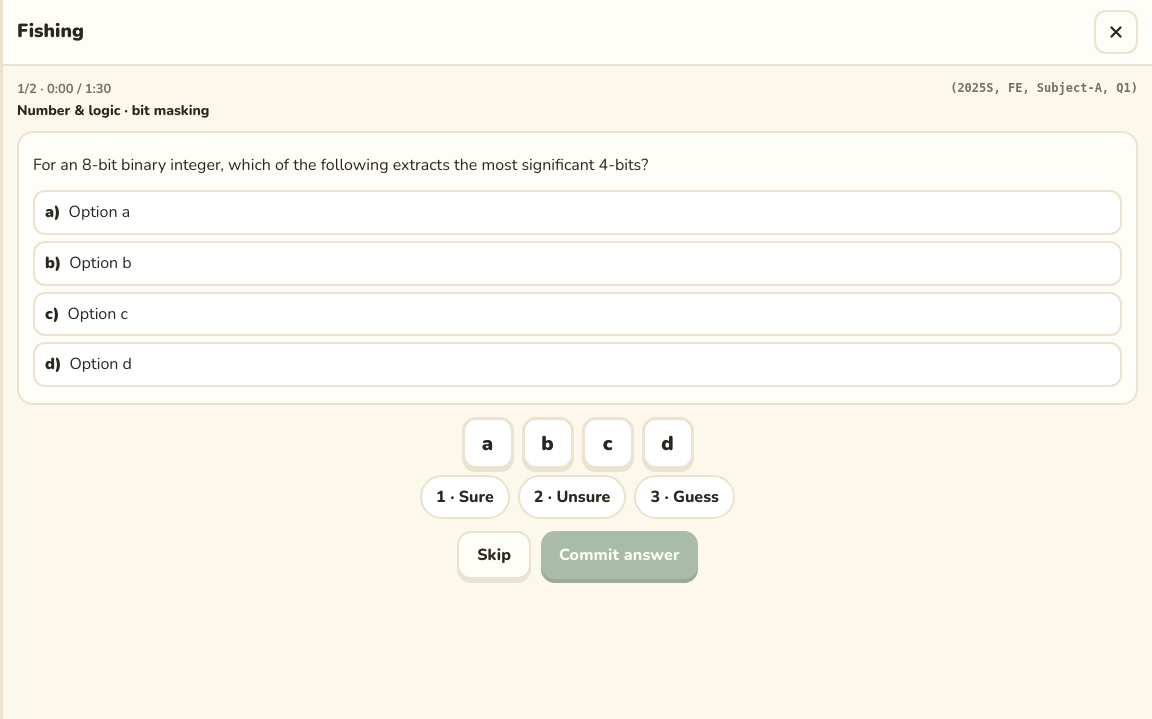
session › runs questions to a summary with farm events
The image size is (1152, 719).
Click the button "c" at (608, 443), box 582,417 -> 634,469
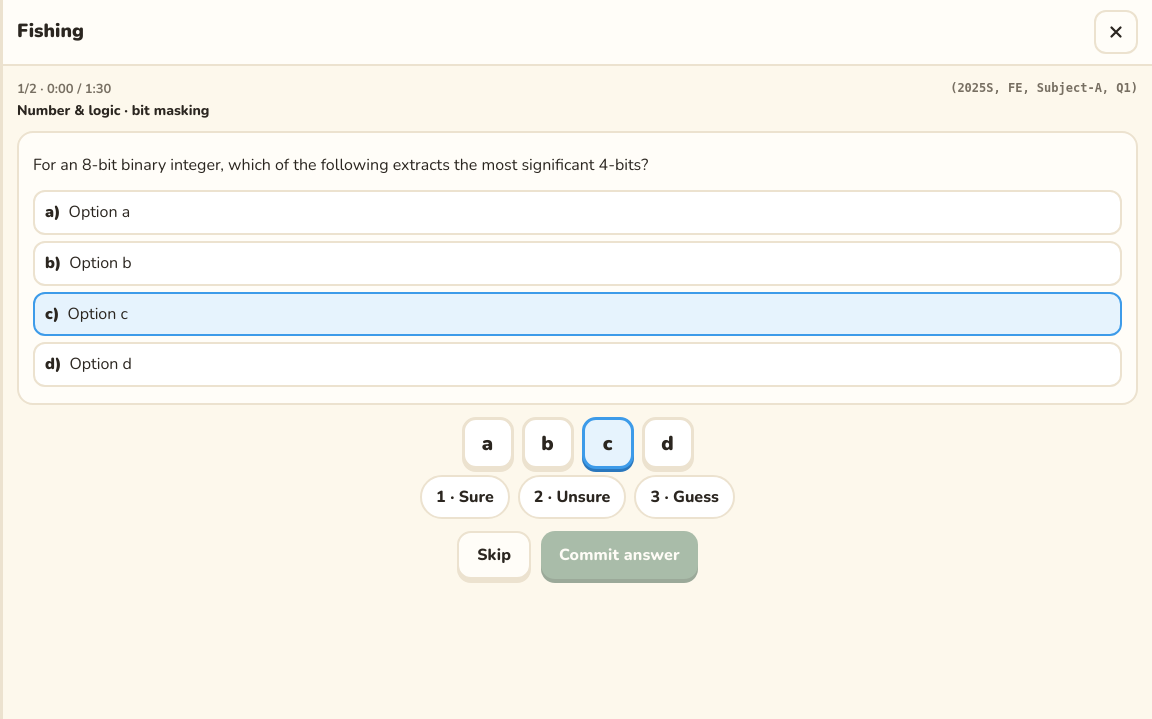
Click the button "2 · Unsure" at (572, 497), box 518,475 -> 626,519
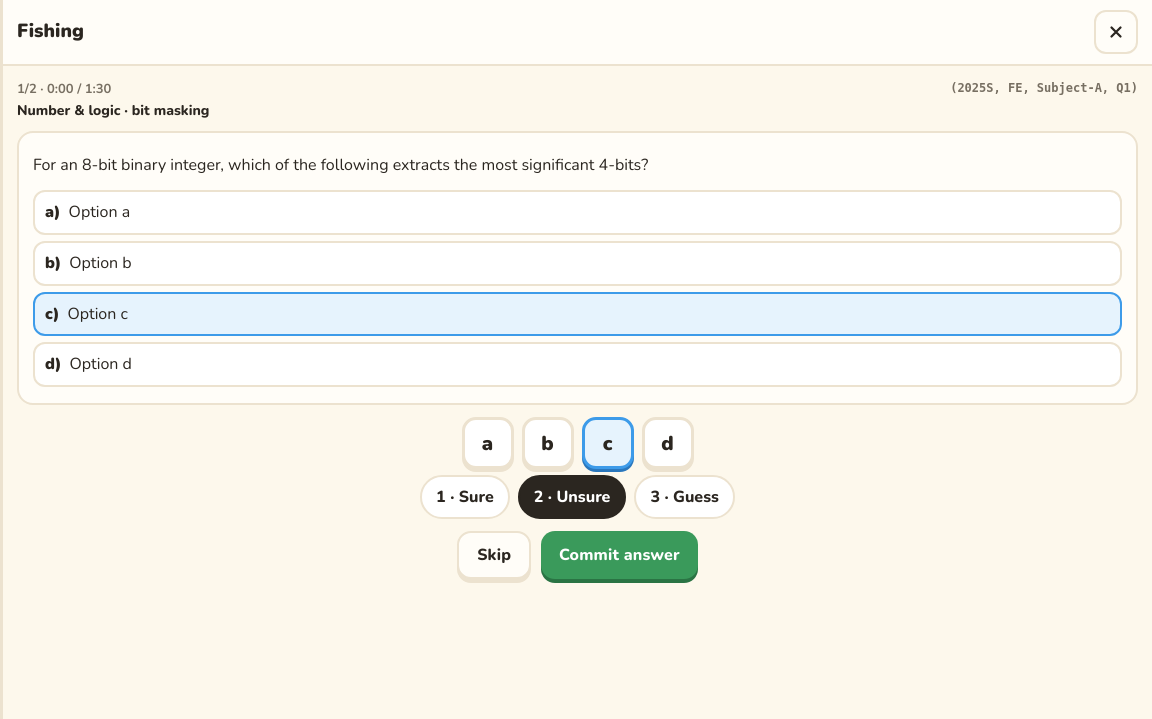
Click the button "Commit answer" at (619, 555), box 541,531 -> 698,579
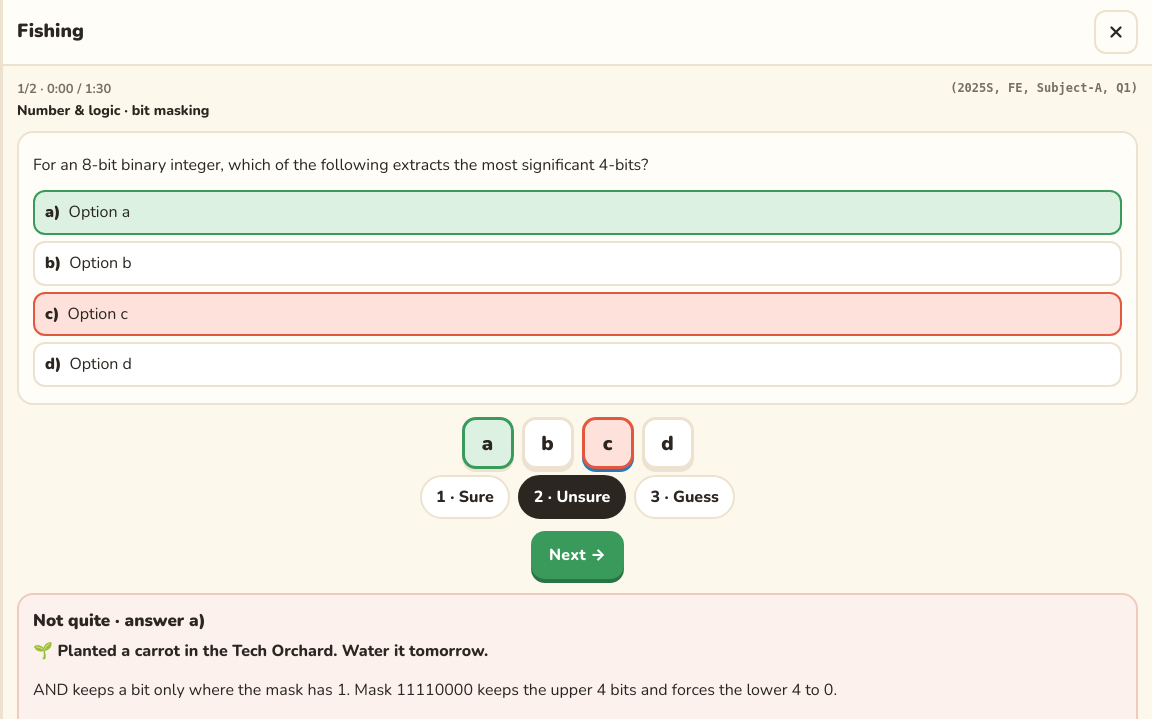
Click the button "Next →" at (577, 555), box 531,531 -> 624,579
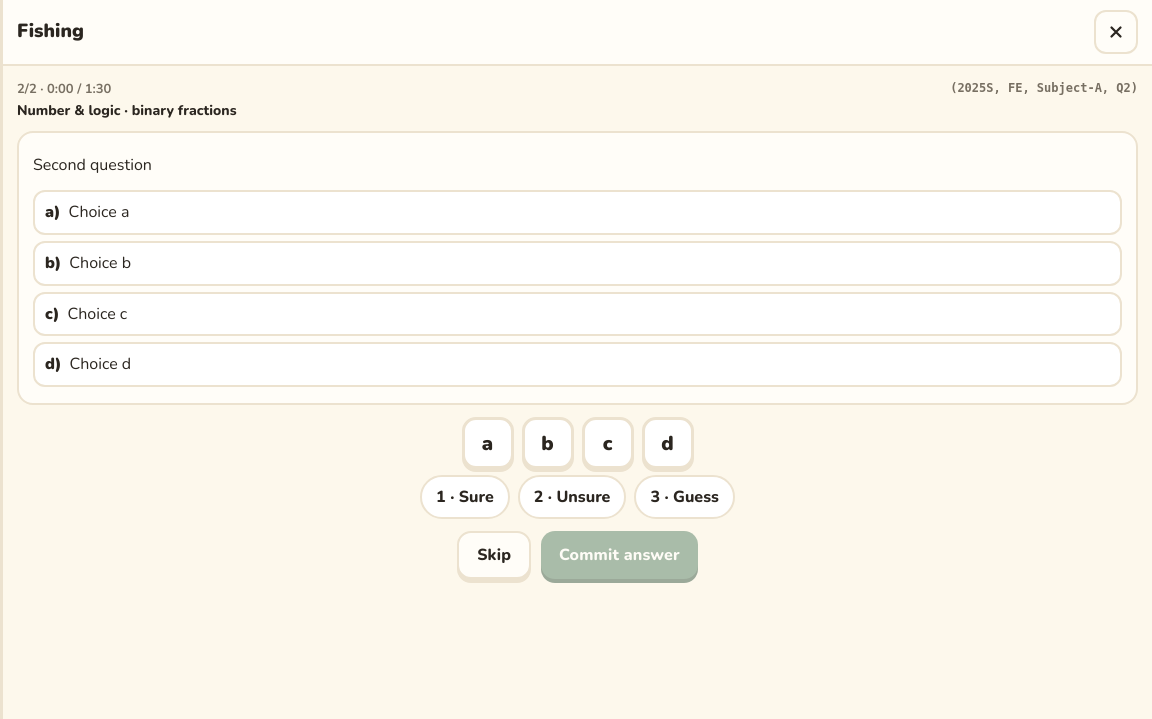
Click the button "Skip" at (494, 555), box 457,531 -> 531,579
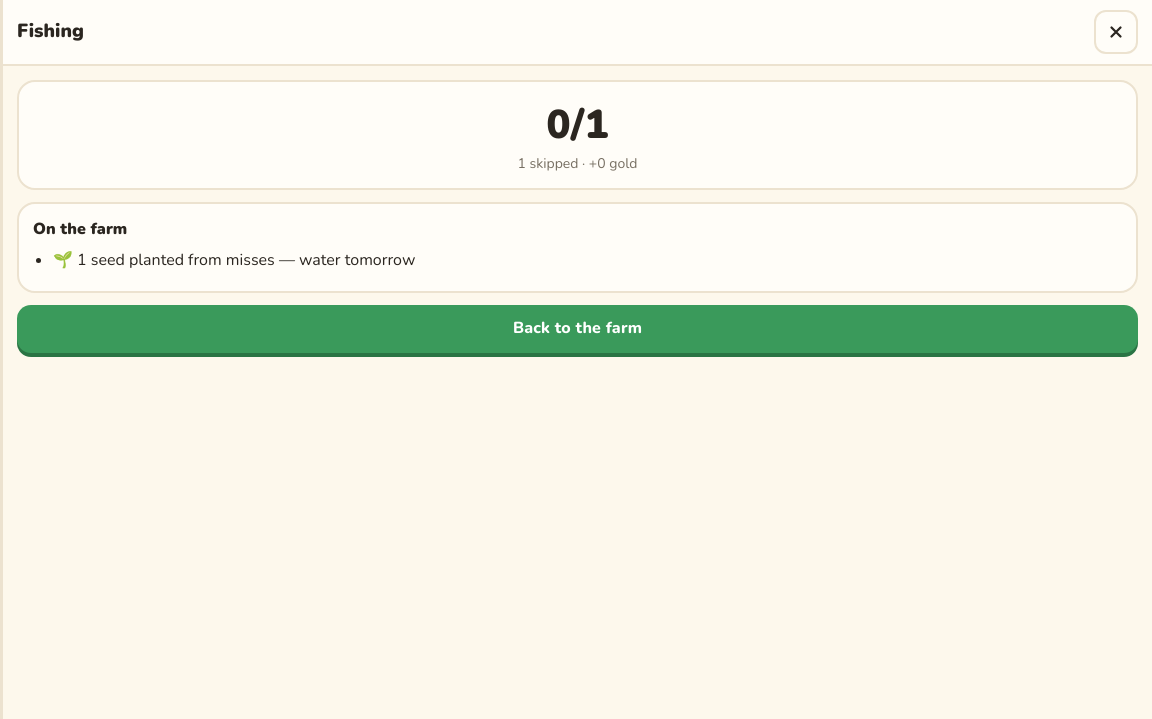
Check: the text "0/1" is shown, box 546,98 -> 608,152
Check: the text "1 skipped · +0 gold" is shown, box 518,154 -> 638,173
Check: the list item "🌱 1 seed planted from misses — water tomorrow" is shown, box 53,250 -> 415,272
